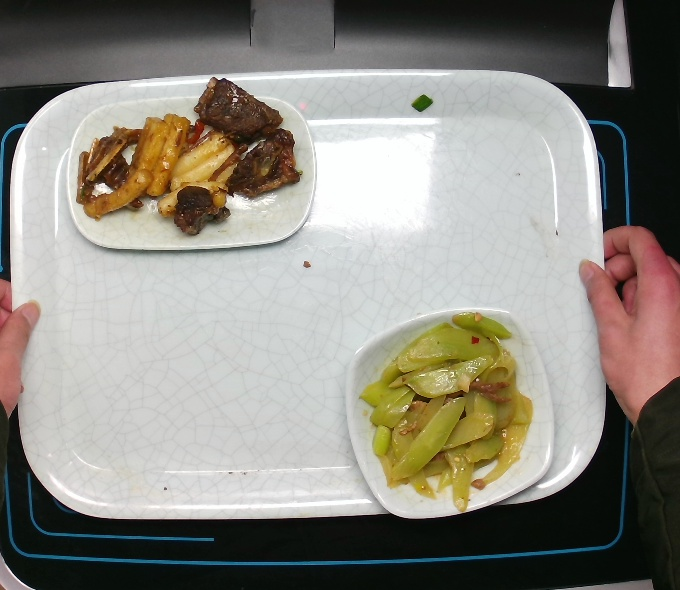wcq-NianGaoZaiPai: (58, 69, 310, 240)
wcq-WoSun: (353, 307, 543, 513)
